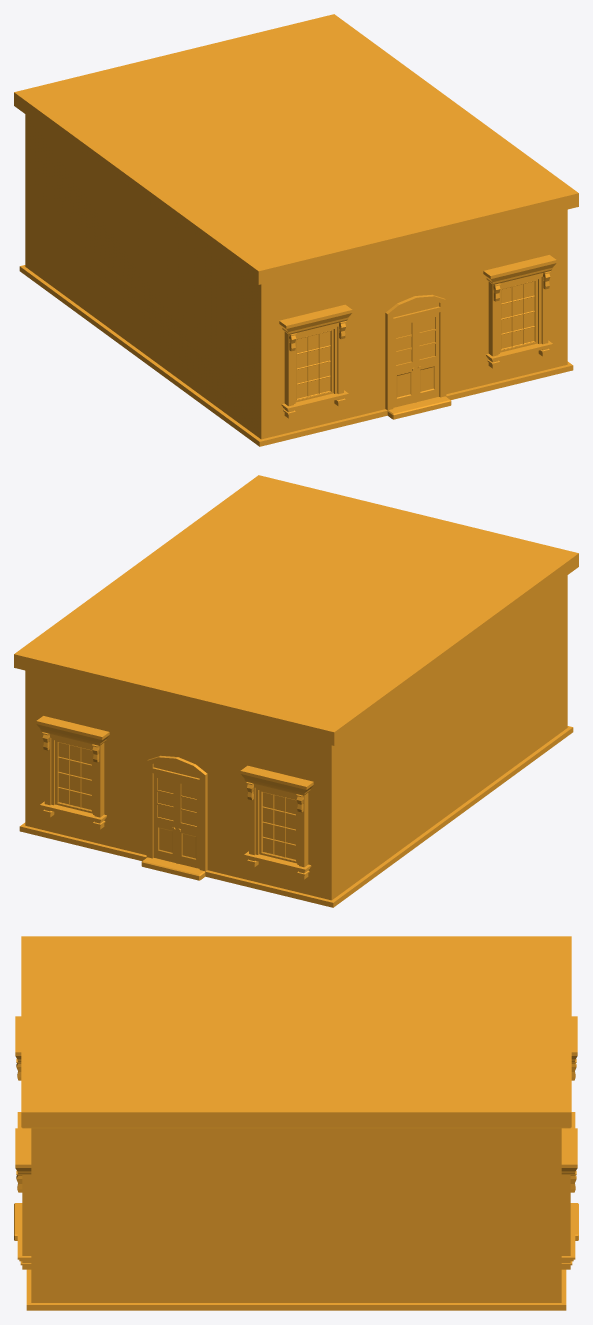
The model's file is SM_Floor_Bottom_Round_Door_Fb_Steampunk.fbx.
The picture shows the model from 3 angles, top to bottom: view 1: azimuth 30°, elevation 25°; view 2: azimuth 150°, elevation 25°; view 3: azimuth 270°, elevation 25°; orthographic projection. The views are drawn at different scales.
Visible parts, largest first — view 1: floor-bottom-round-door-fb-steampunk; view 2: floor-bottom-round-door-fb-steampunk; view 3: floor-bottom-round-door-fb-steampunk.
Boxes of the visible parts, x1=… form: floor-bottom-round-door-fb-steampunk: x1=14, y1=14, x2=578, y2=446; floor-bottom-round-door-fb-steampunk: x1=14, y1=475, x2=578, y2=907; floor-bottom-round-door-fb-steampunk: x1=14, y1=936, x2=578, y2=1310.
Size of the model in its own units: 9.41 by 5 by 12.79.
